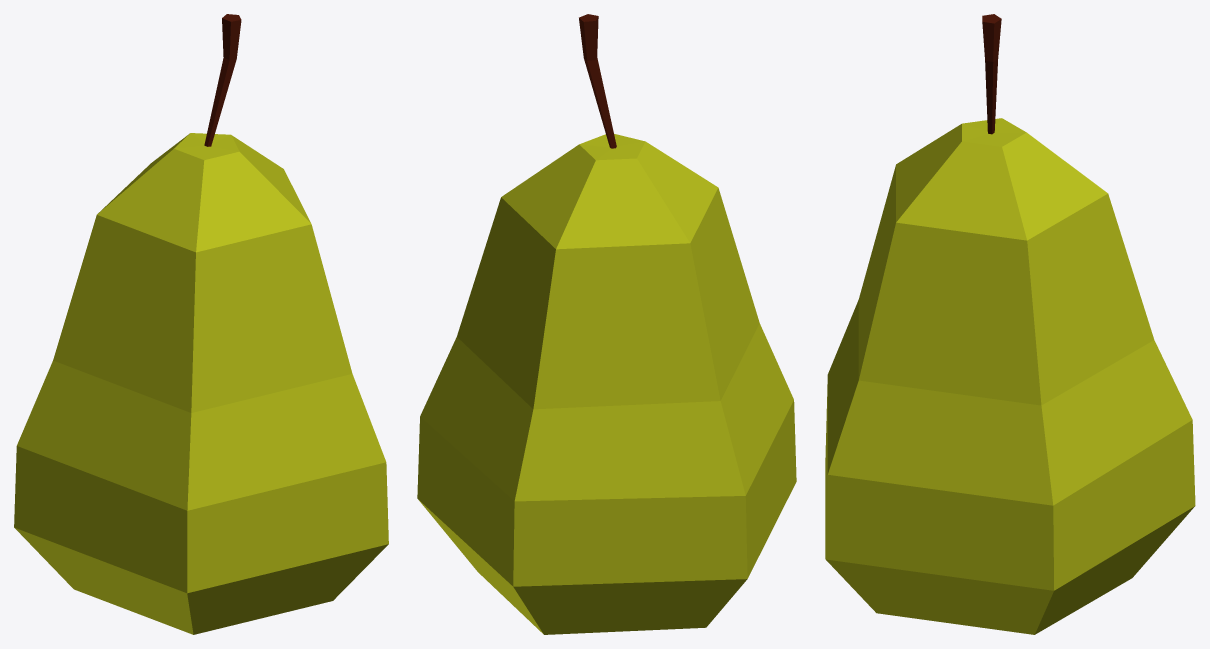
The model's file is Pera.fbx.
3 renders of one model, left to right at view 1: azimuth 30°, elevation 25°; view 2: azimuth 150°, elevation 25°; view 3: azimuth 270°, elevation 25°, orthographic. The views are drawn at different scales.
Visible parts, largest first — view 1: Sphere.005; view 2: Sphere.005; view 3: Sphere.005.
Boxes of the visible parts, box(x1,y1,x2,y2) form: Sphere.005: box(14, 14, 388, 634); Sphere.005: box(417, 14, 796, 634); Sphere.005: box(825, 14, 1195, 634).
Size of the model in its own units: 5.38 by 8.99 by 5.12.
